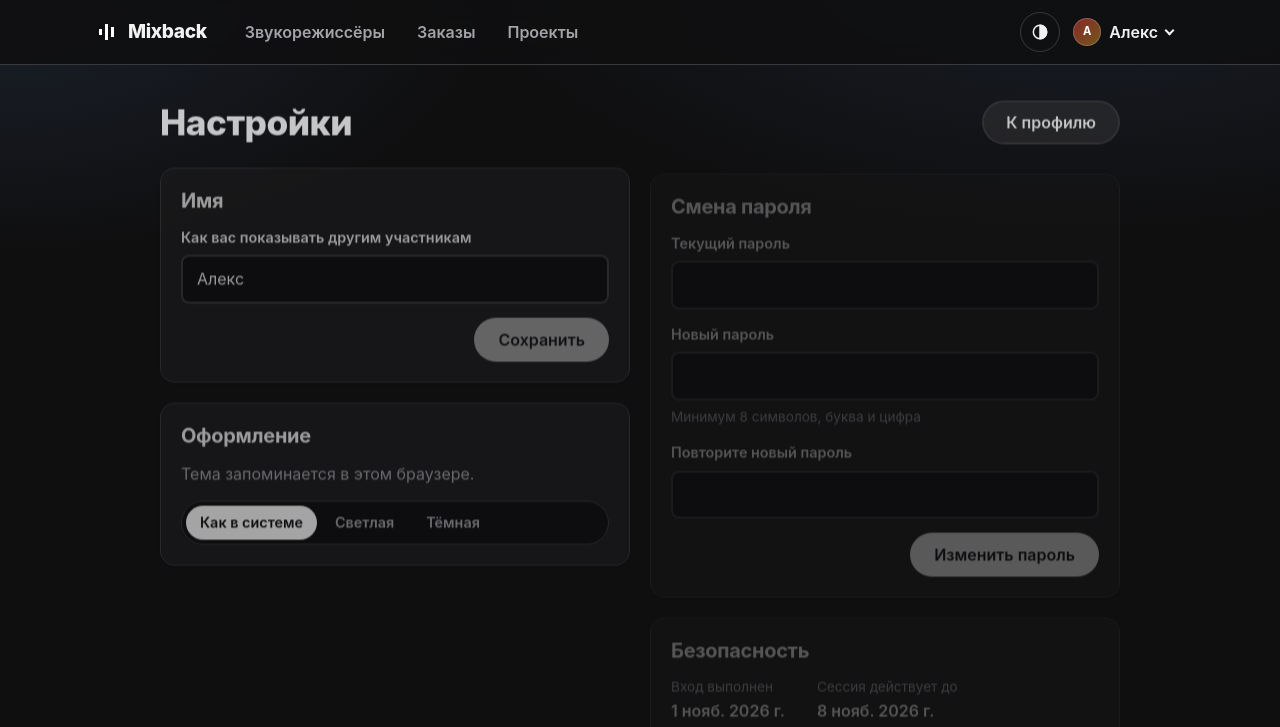
Test: ProfilePage › имя › слишком короткое имя — ошибка у поля
Expected: the heading "Настройки" is shown, [160, 101, 352, 143]
Clear the field labelled "Как вас показывать другим участникам": {"x": 395, "y": 279} [181, 255, 609, 304]
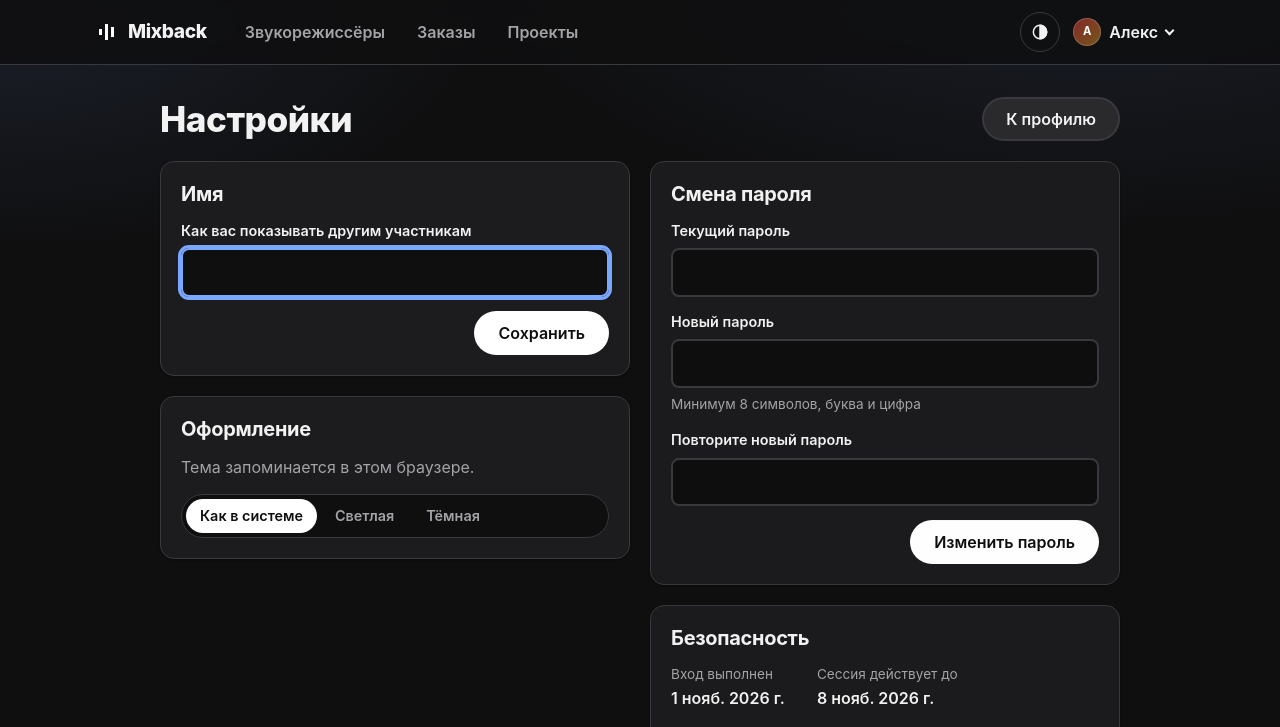
In the field labelled "Как вас показывать другим участникам": {"x": 395, "y": 273} [181, 248, 609, 297], type "А"
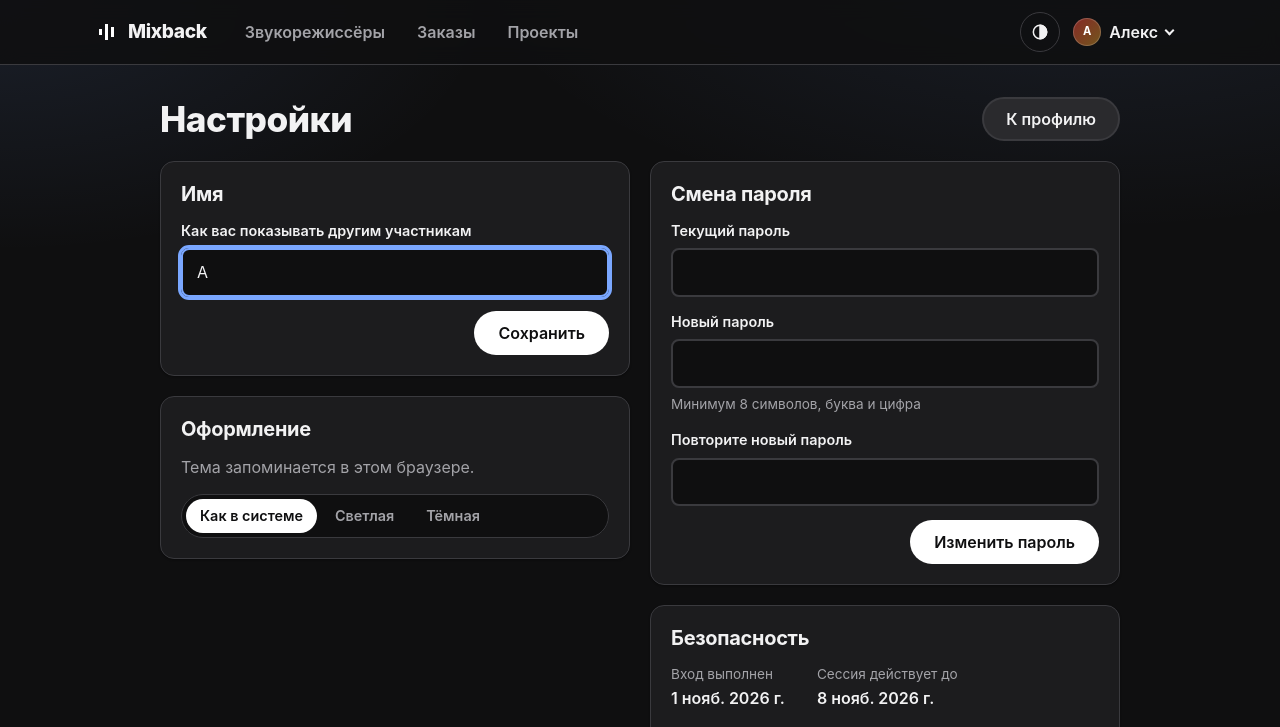
Click the button "Сохранить": {"x": 542, "y": 333} [474, 311, 609, 355]
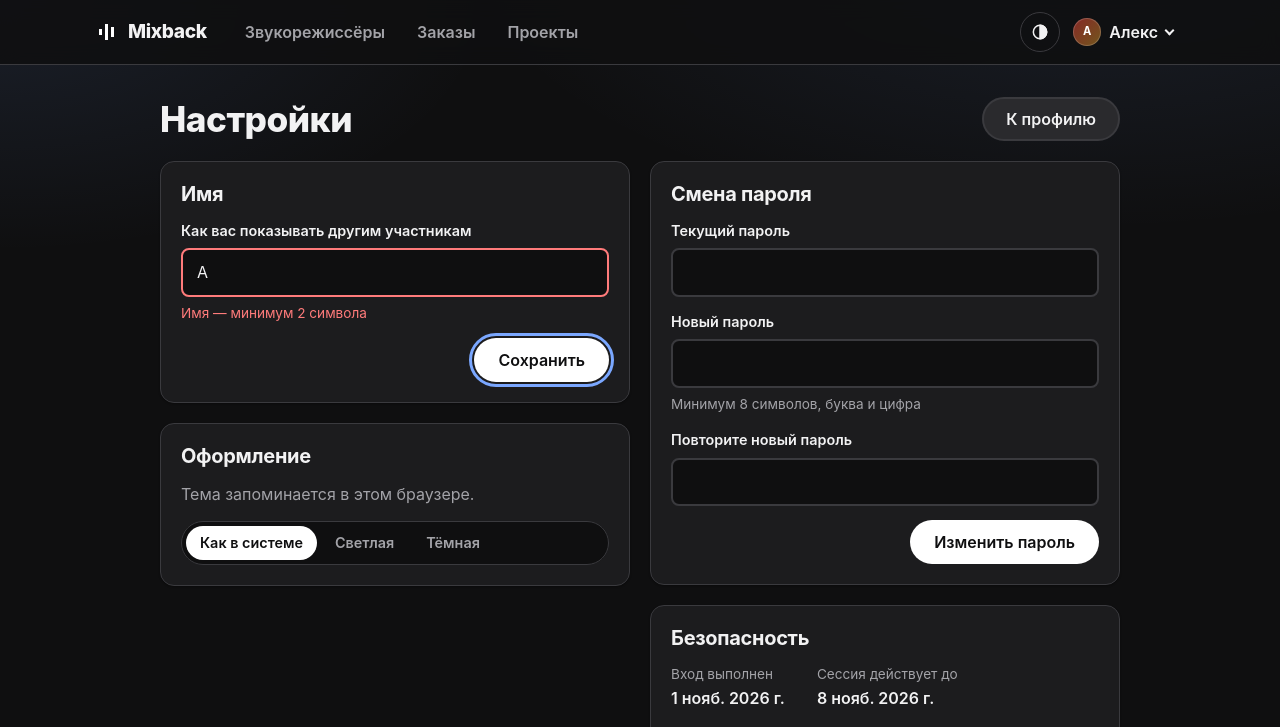
Expected: the text "Имя — минимум 2 символа" is shown, [181, 305, 367, 321]
